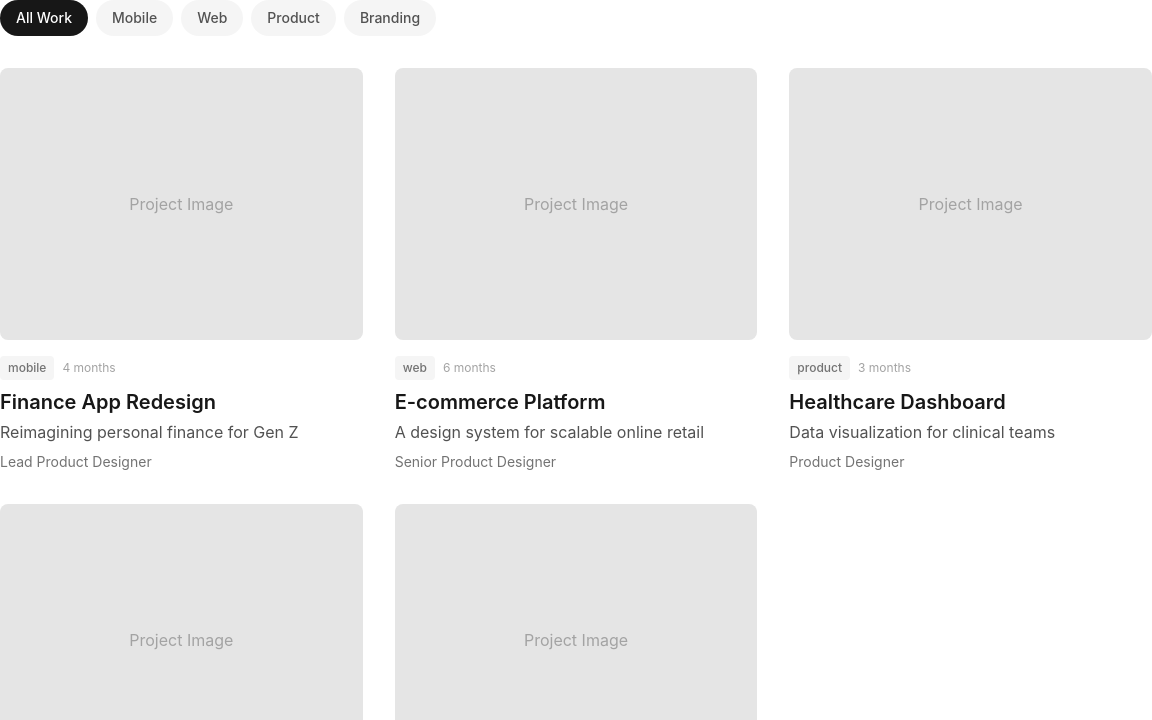
it: ProjectGrid › filters projects when category is selected
Click the button "Mobile" at coordinates (135, 18), box top-left (96, 0), bottom-right (173, 36)
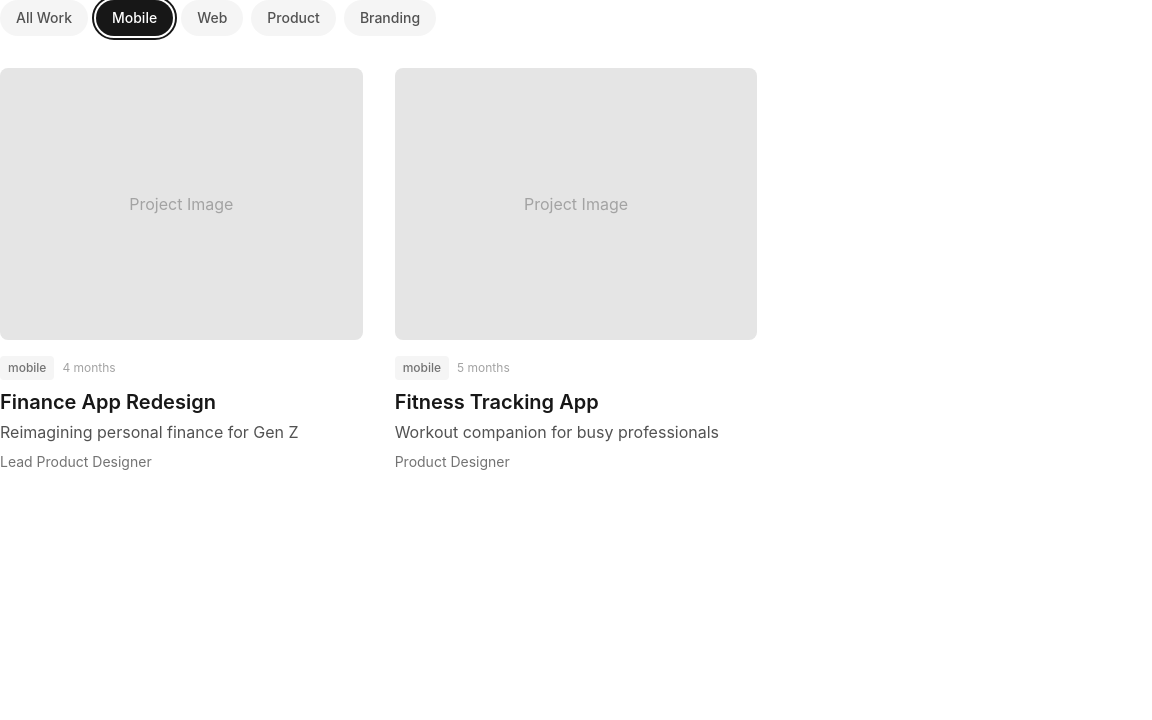
Expected: the heading "Finance App Redesign" is shown, top-left (0, 390), bottom-right (216, 414)
Result: the link "E-commerce Platform" is gone
Result: the link "Healthcare Dashboard" is gone
